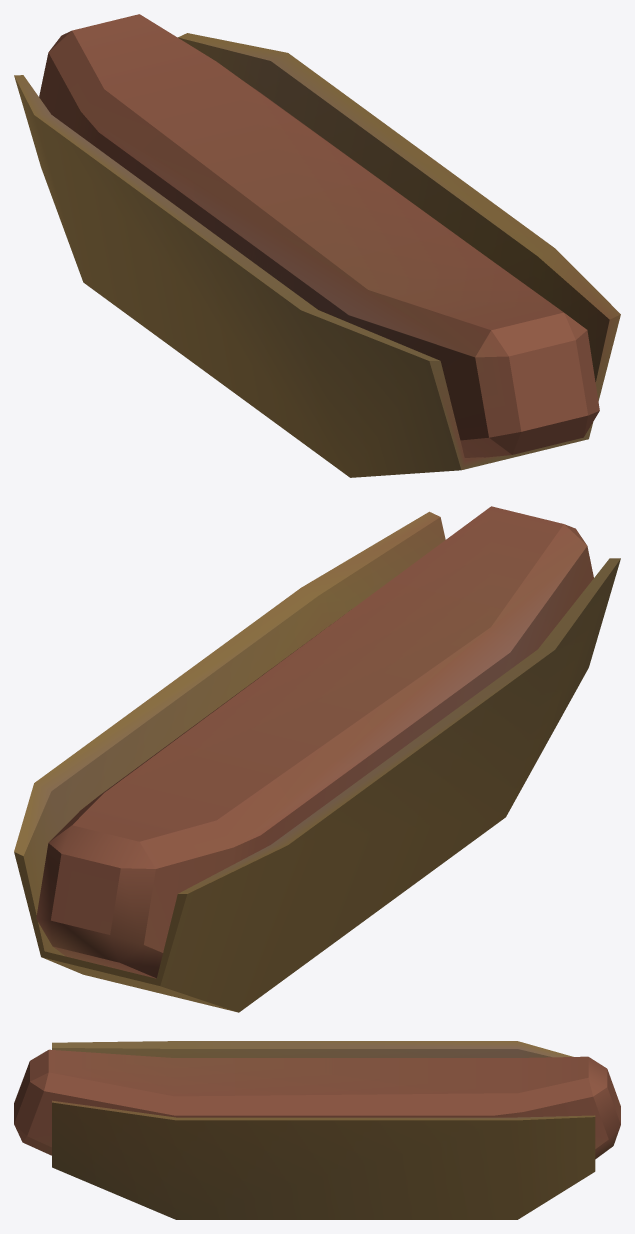
File: hotdog.fbx
3 views of the same model, one above another, from view 1: azimuth 30°, elevation 25°; view 2: azimuth 150°, elevation 25°; view 3: azimuth 270°, elevation 25° (orthographic). The views are drawn at different scales.
Visible parts, largest first — view 1: Cube; view 2: Cube; view 3: Cube.
Part boxes in pixels (x1,y1,x2,y2): Cube: (14, 14, 620, 477); Cube: (14, 506, 620, 1012); Cube: (14, 1041, 620, 1219).
Bounding box in the file's own units: 314 × 248 × 1015.
